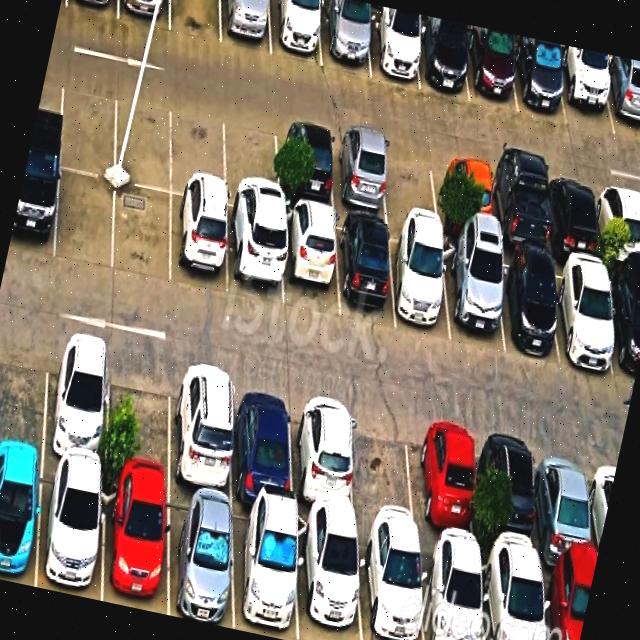empty: (349, 399, 418, 538), (106, 346, 171, 486), (0, 322, 49, 455), (114, 84, 173, 192), (55, 169, 115, 271), (113, 182, 171, 286), (59, 72, 116, 177), (224, 108, 278, 216), (171, 97, 225, 203), (381, 139, 438, 227), (169, 0, 221, 43)
occupied: (42, 331, 109, 471), (36, 460, 102, 601), (168, 488, 233, 629), (103, 474, 167, 615), (233, 502, 297, 640), (292, 388, 355, 525), (170, 360, 232, 499), (414, 410, 475, 551), (536, 435, 596, 571), (232, 373, 292, 509), (297, 515, 361, 640), (485, 424, 540, 561), (551, 256, 615, 373), (357, 530, 424, 640), (493, 249, 558, 359), (441, 240, 504, 352), (389, 226, 450, 341), (336, 215, 395, 326), (419, 540, 484, 640), (282, 204, 338, 317), (480, 551, 545, 640), (170, 194, 227, 295), (0, 452, 42, 586), (488, 161, 548, 254), (226, 208, 282, 307), (8, 156, 60, 259), (276, 119, 334, 209), (435, 151, 493, 240), (556, 49, 614, 135), (332, 129, 388, 218), (545, 171, 600, 259), (513, 36, 566, 123), (465, 27, 517, 111), (414, 21, 469, 100), (540, 562, 594, 640), (366, 10, 419, 88), (605, 266, 640, 383), (595, 180, 640, 266), (320, 0, 370, 75), (269, 0, 321, 66), (600, 57, 640, 140), (220, 0, 270, 55), (118, 0, 170, 30), (66, 0, 118, 18)
